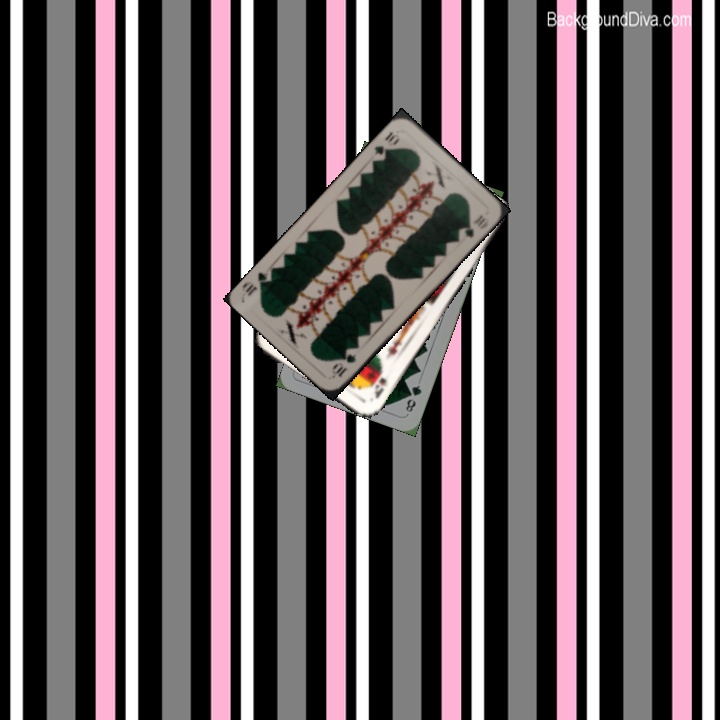G10: (370, 128, 402, 160), (327, 349, 360, 380)
G8: (401, 381, 424, 415)
SK: (367, 366, 389, 401)
